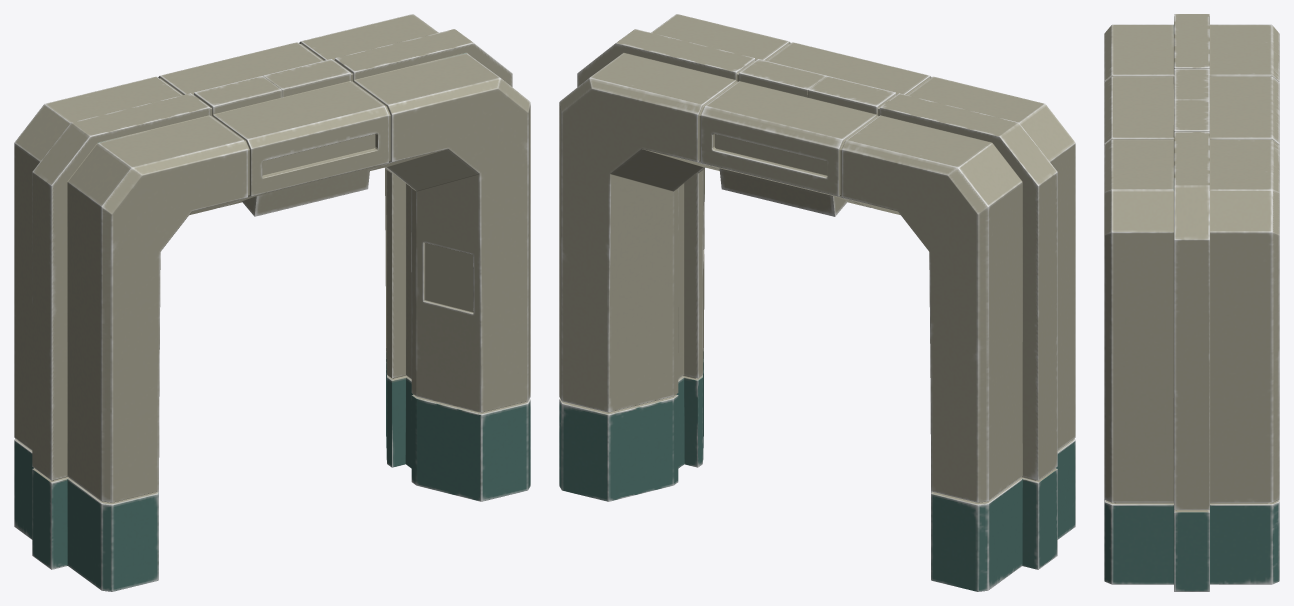
The model's file is frame.glb.
3 views of the same model, side by side, from view 1: azimuth 30°, elevation 25°; view 2: azimuth 150°, elevation 25°; view 3: azimuth 270°, elevation 25° (orthographic). The views are drawn at different scales.
Parts seen in each view (by area): view 1: Door.002; view 2: Door.002; view 3: Door.002.
Part boxes in pixels (x1,y1,x2,y2): Door.002: [14, 14, 530, 591]; Door.002: [559, 14, 1075, 591]; Door.002: [1104, 14, 1279, 591].
Size of the model in its own units: 5.39 by 4.74 by 1.93.
2 materials, 1 textured.
